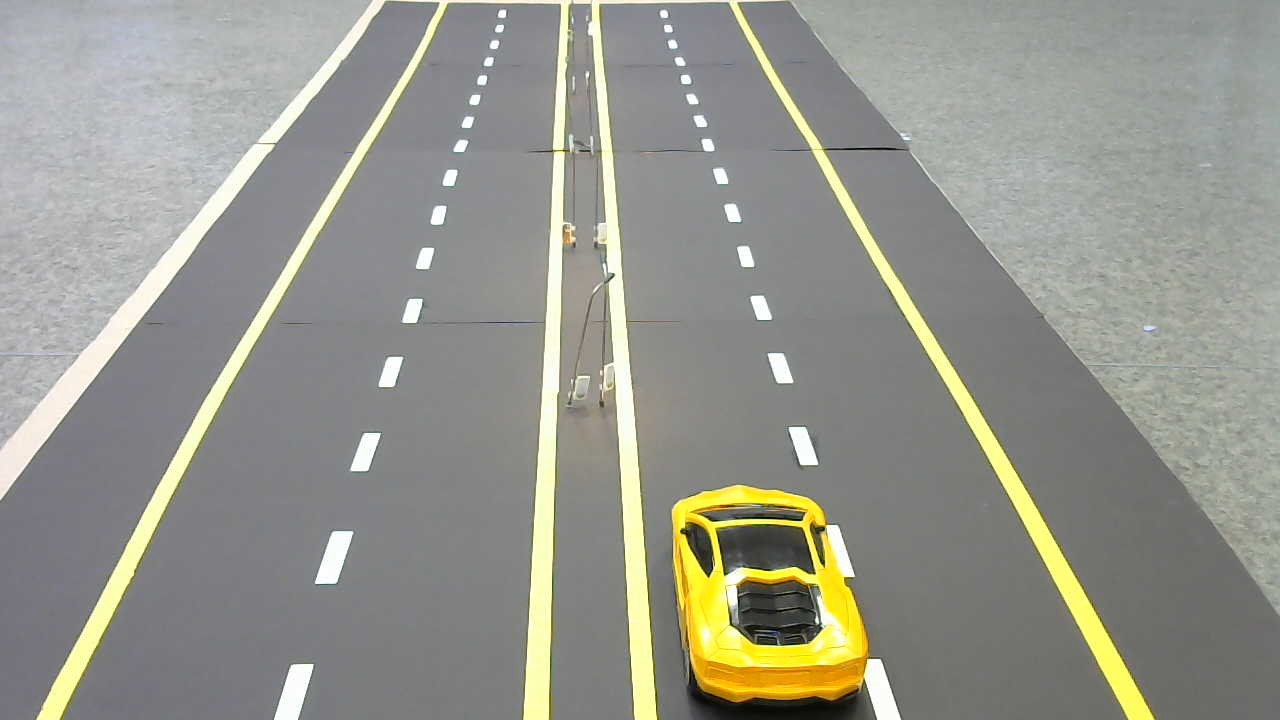back_car: (656, 484, 873, 708)
